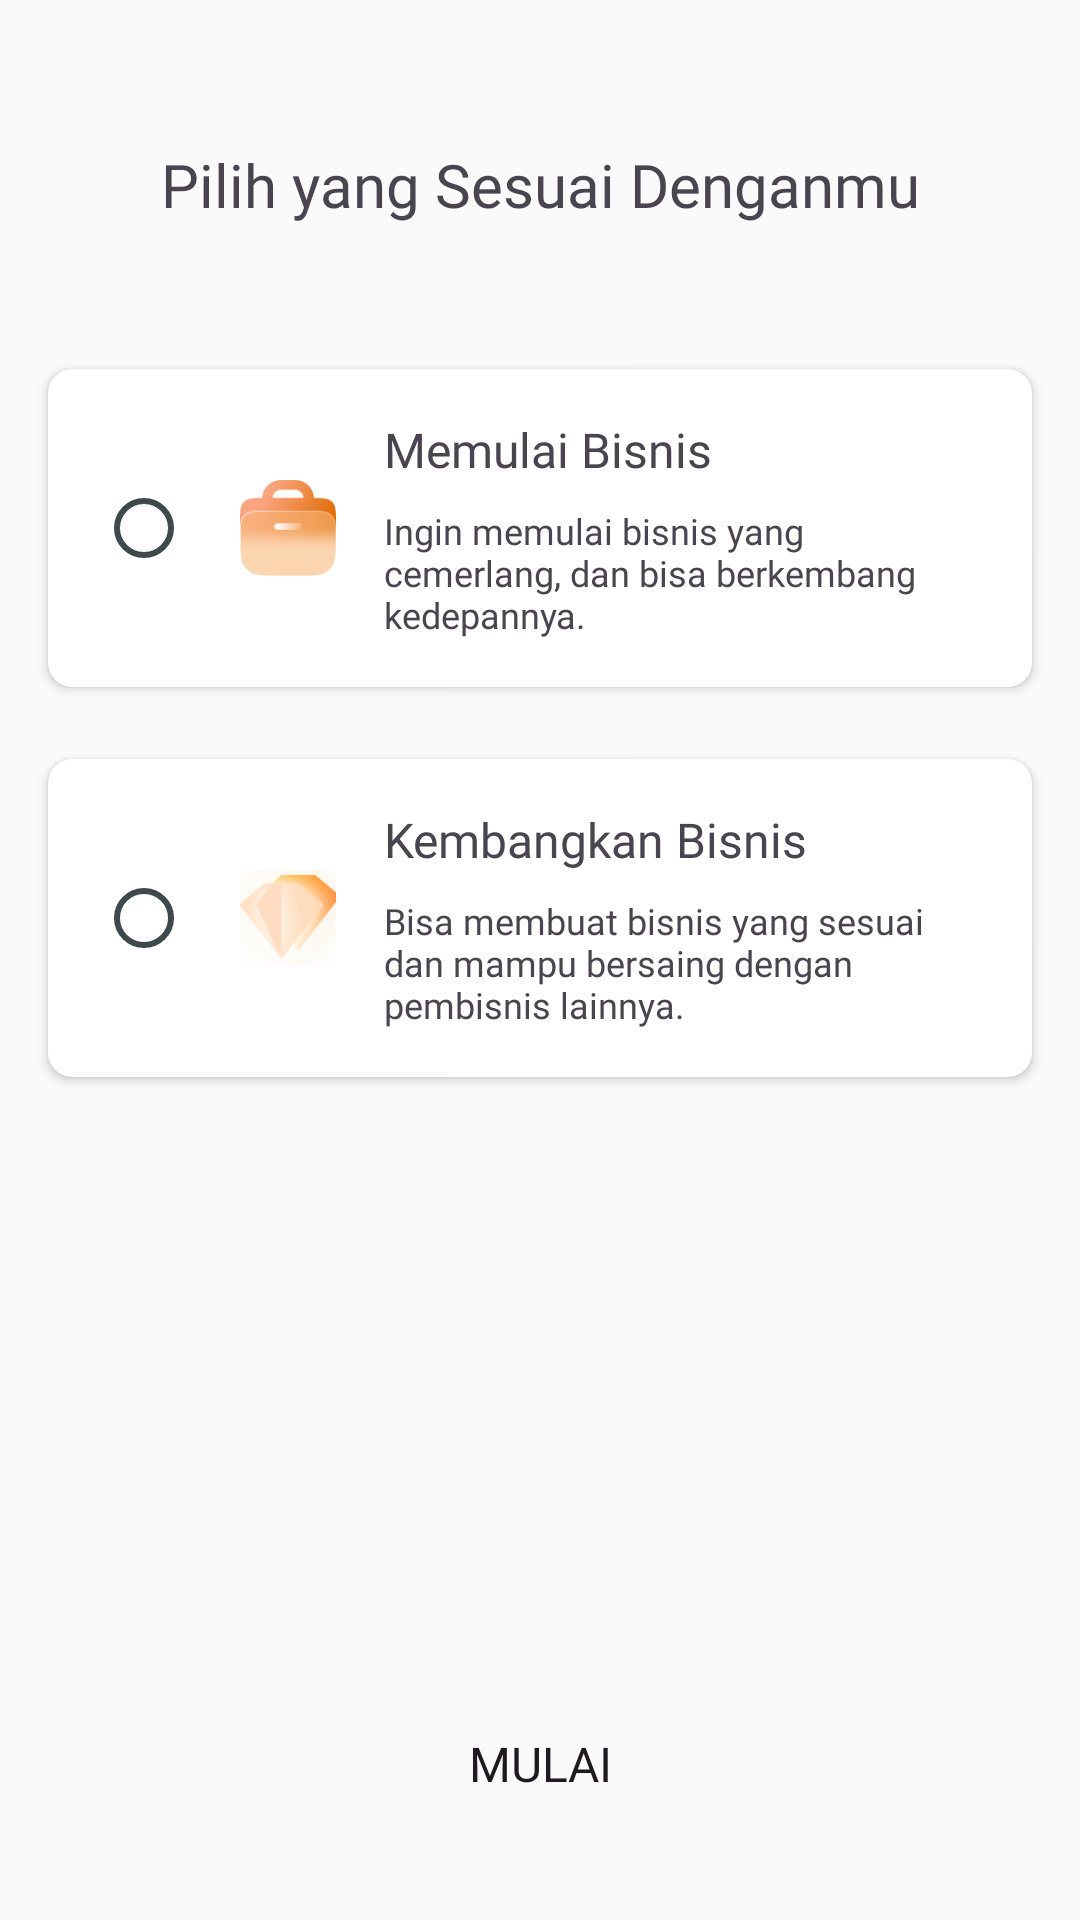

Where to tap for icons on this 1080w x 1920h app screen, as (x=x, y=y):
create business: (x=288, y=528)
growth business: (x=288, y=916)
